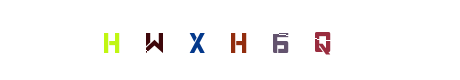6: (228, 0, 308, 80)
H: (71, 0, 151, 80), (190, 0, 270, 80)
Q: (241, 0, 321, 80)
W: (114, 0, 194, 80)
X: (157, 0, 237, 80)
